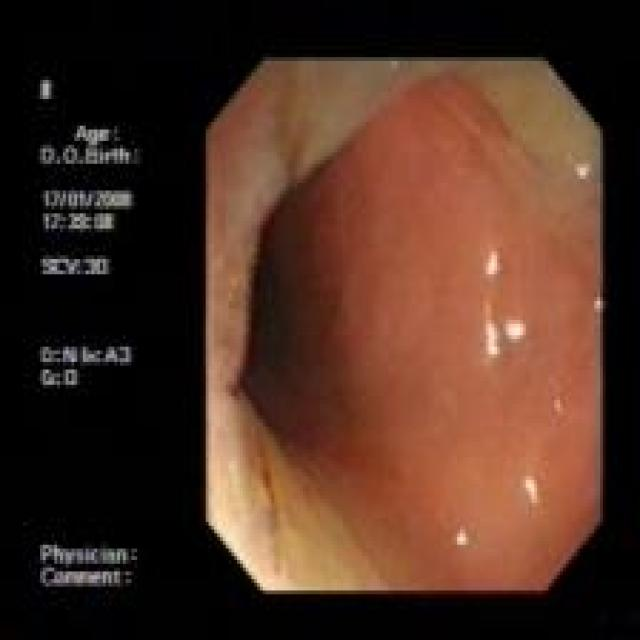color misalignment: (33, 68, 163, 593)
contrast: (241, 149, 355, 457)
saturation: (205, 396, 369, 590)
